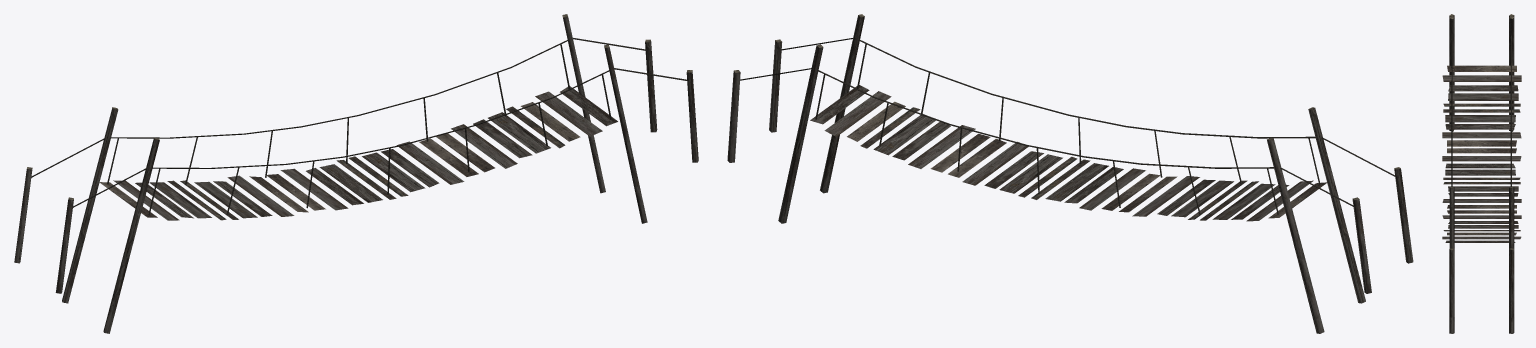
File: Bridge.fbx
The picture shows the model from 3 angles, left to right: view 1: azimuth 30°, elevation 25°; view 2: azimuth 150°, elevation 25°; view 3: azimuth 270°, elevation 25°; orthographic projection. The views are drawn at different scales.
Visible parts, largest first — view 1: Bridge; view 2: Bridge; view 3: Bridge.
Boxes of the visible parts, box(x1,y1,x2,y2) form: Bridge: box(14, 14, 698, 333); Bridge: box(727, 14, 1413, 333); Bridge: box(1442, 14, 1521, 333).
Size of the model in its own units: 119 by 35.89 by 17.61.
